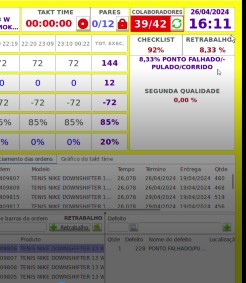takt_time: (21, 9, 77, 31)
